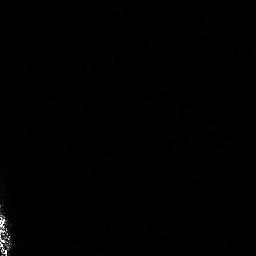ship: (1, 205, 17, 256)
